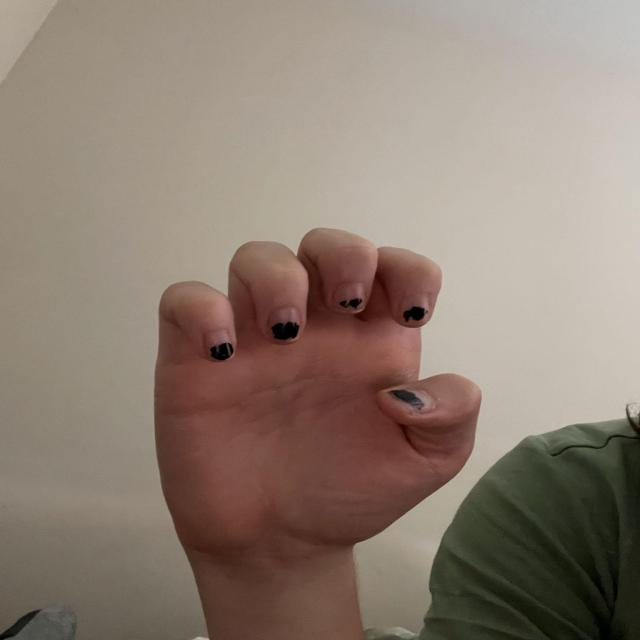E: (144, 223, 486, 560)
